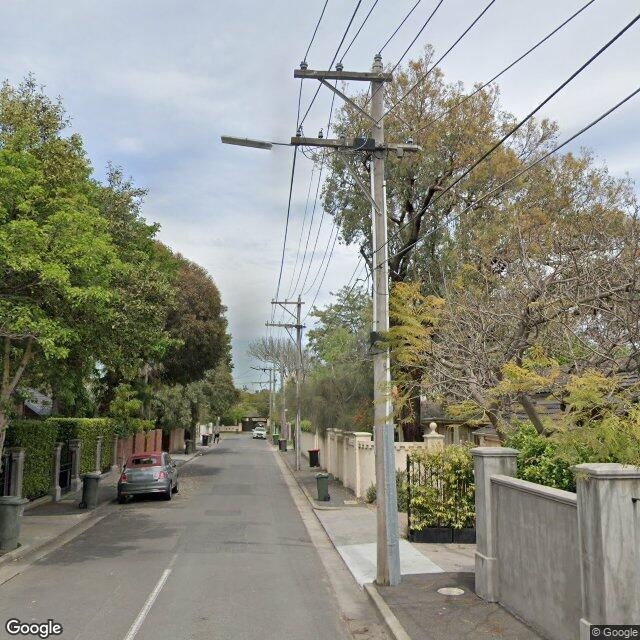HV-transmission: (294, 53, 393, 83), (272, 294, 305, 304)
crossarm: (292, 127, 424, 157), (294, 69, 393, 83), (266, 320, 306, 329), (272, 302, 306, 304)
streetlight: (220, 135, 290, 151)
timber-pole: (370, 64, 402, 585), (295, 298, 301, 471)
